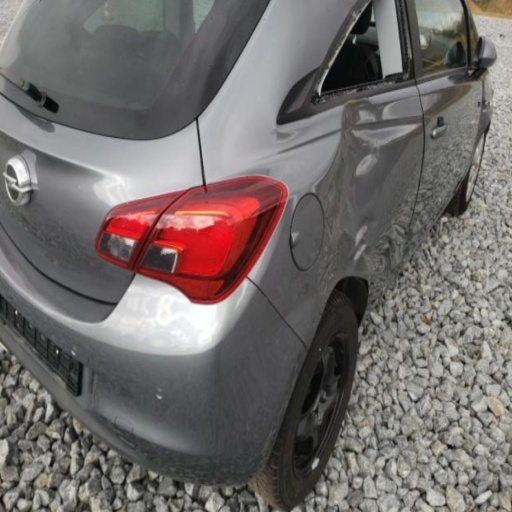dent: (314, 99, 421, 311)
